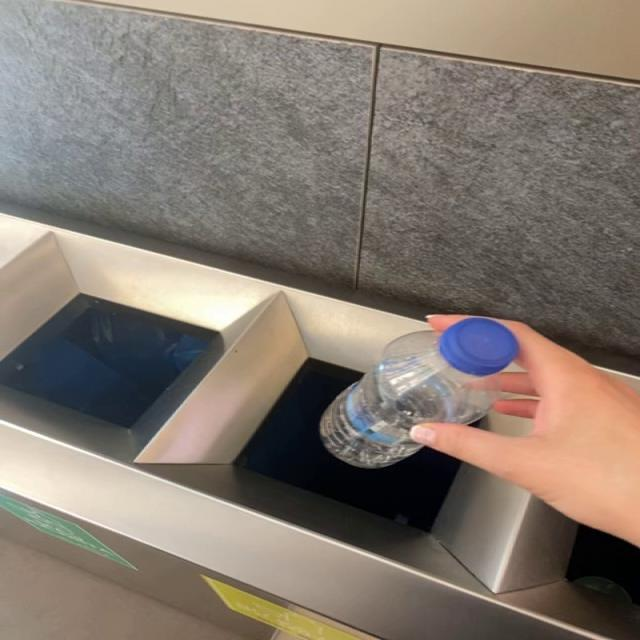Plastic: (320, 317, 520, 470)
